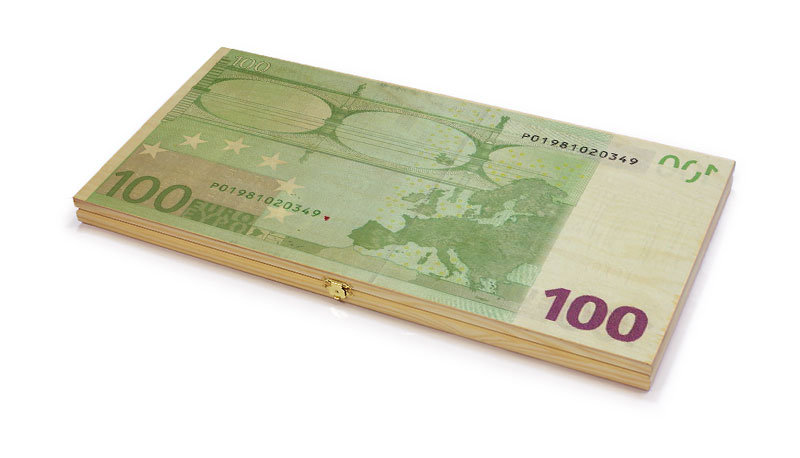cash: (74, 48, 734, 363)
